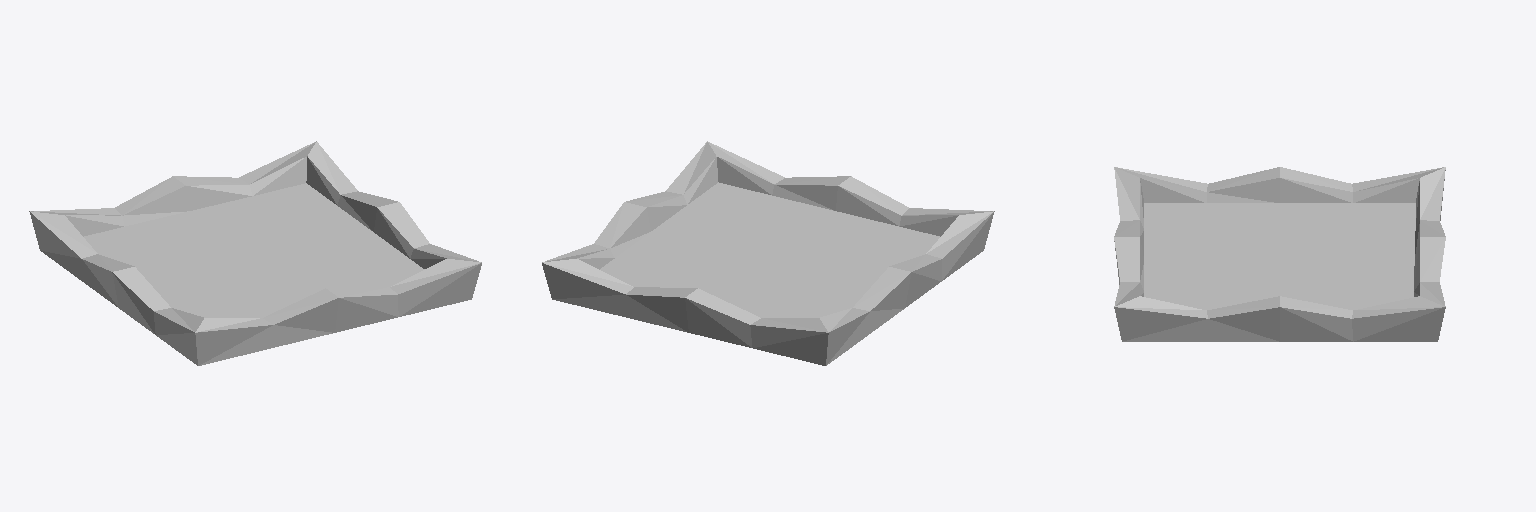
File: frameNew01.obj
3 views of the same model, side by side, from view 1: azimuth 30°, elevation 25°; view 2: azimuth 150°, elevation 25°; view 3: azimuth 270°, elevation 25° (orthographic).
Parts seen in each view (by area): view 1: pCube21; view 2: pCube21; view 3: pCube21.
Boxes of the visible parts, x1,y1,x2,y2 form: pCube21: [29, 141, 481, 365]; pCube21: [542, 141, 994, 365]; pCube21: [1114, 167, 1445, 341].
Bounding box in the file's own units: 1.05 × 0.1328 × 1.05.